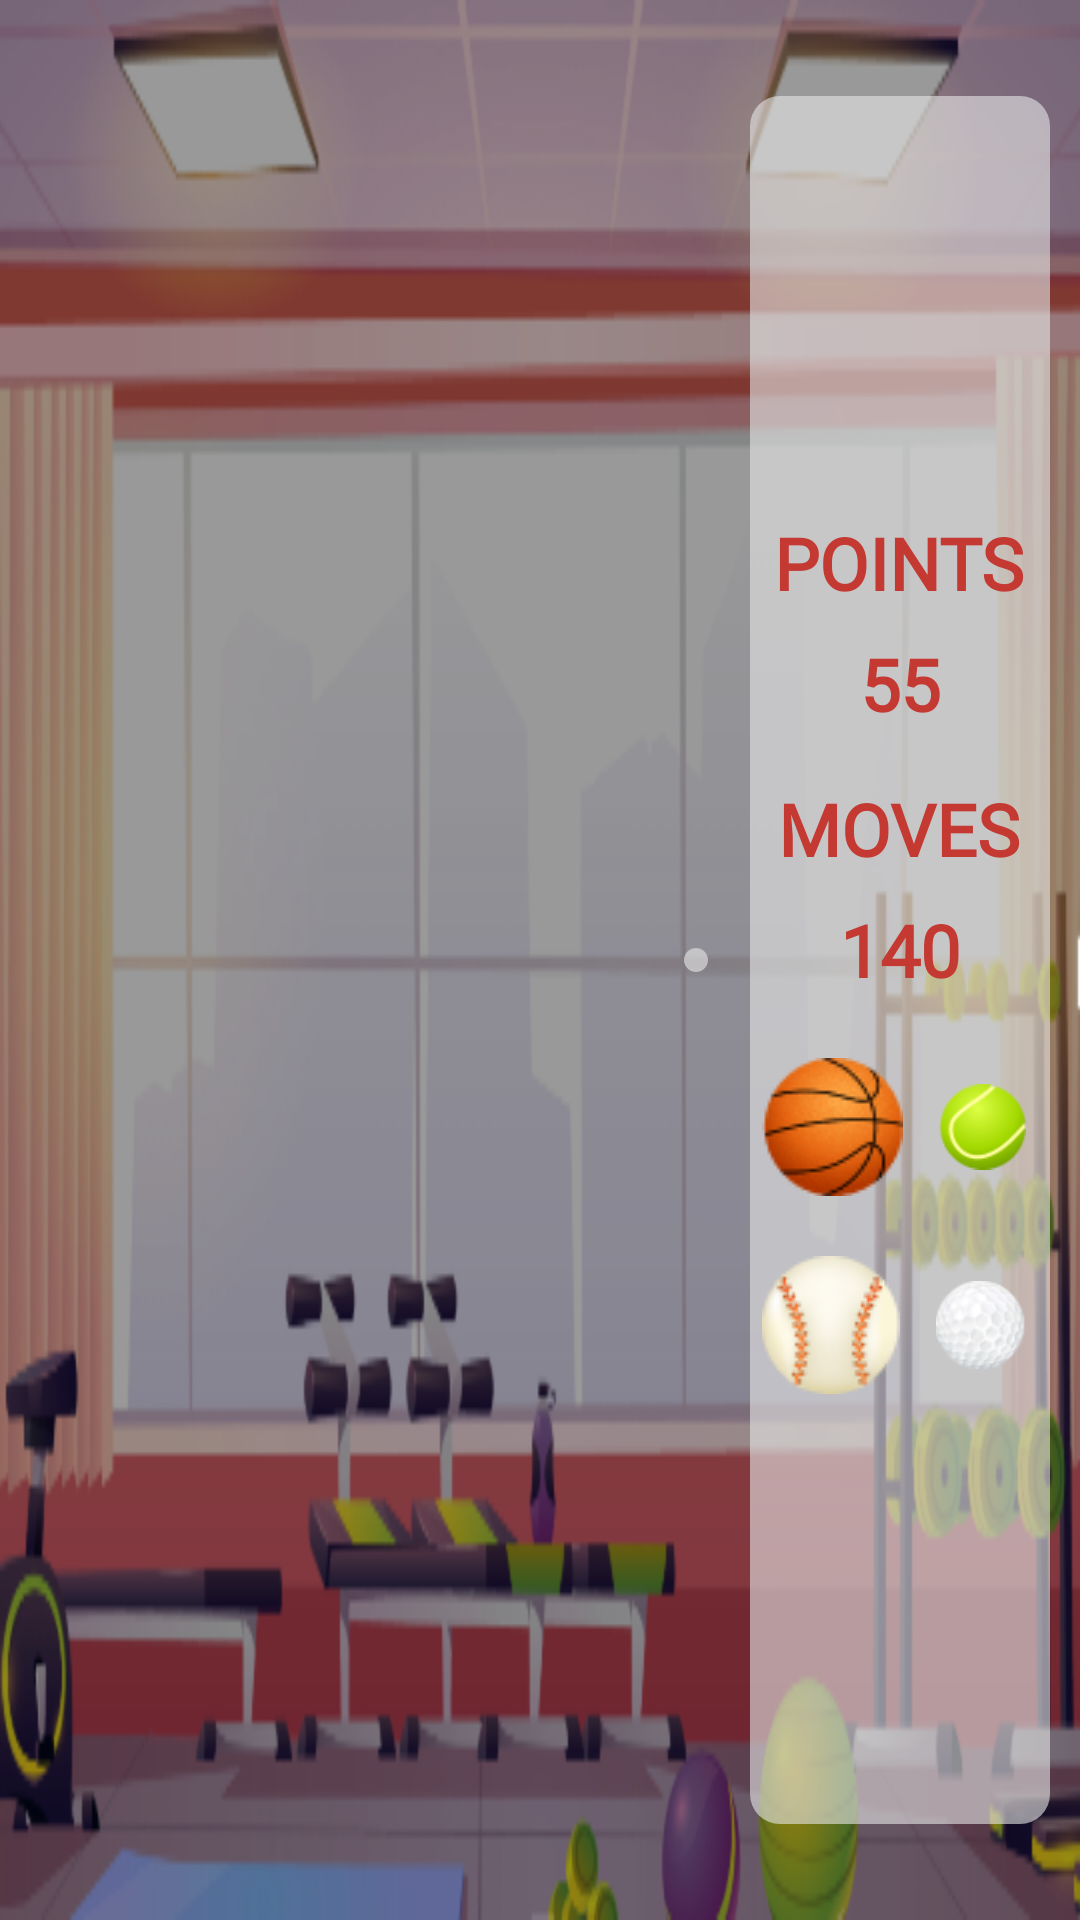

Point at icon controls on the screen. Image size 1080w x 1920h, points as point (x, y).
ball: point (838, 1127), point (982, 1127), point (837, 1325), point (981, 1325)
